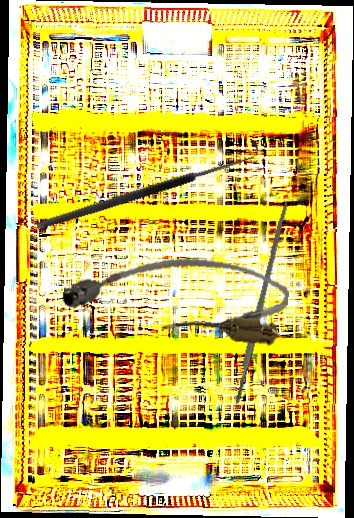Cannula: (60, 241, 292, 348)
Hook Surgical: (32, 139, 262, 232)
Scalpel Handle: (231, 199, 291, 406)
